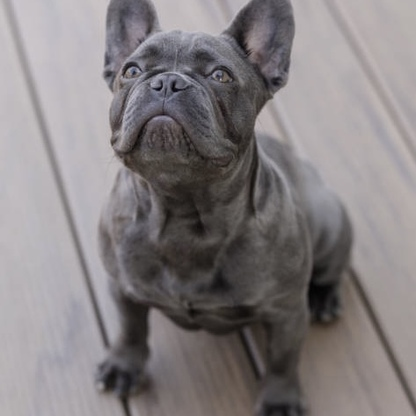bulldog: (93, 5, 357, 416)
